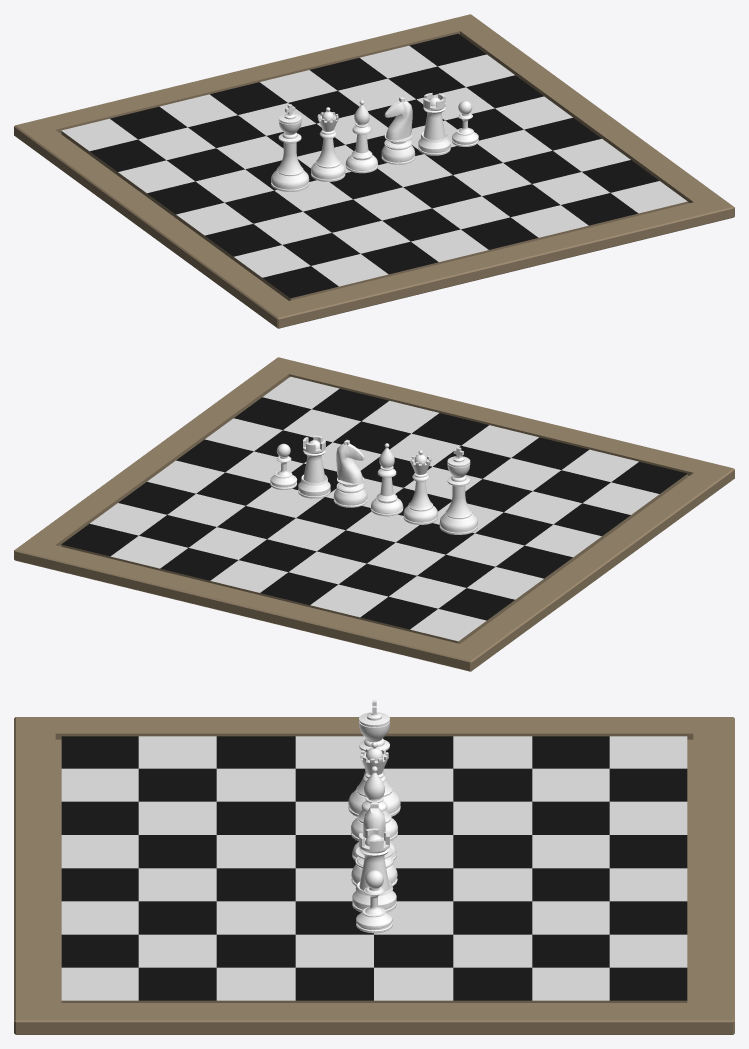
File: BoardGame.fbx
3 renders of one model, top to bottom at view 1: azimuth 30°, elevation 25°; view 2: azimuth 150°, elevation 25°; view 3: azimuth 270°, elevation 25°, orthographic. The views are drawn at different scales.
Parts seen in each view (by area): view 1: Board1, Body (×5), Knight; view 2: Board1, Body (×5), Knight; view 3: Board1, Body (×5), Knight.
Boxes of the visible parts, bbox=[...] form: Board1: bbox=[14, 14, 734, 328]; Body (×5): bbox=[271, 93, 478, 191]; Knight: bbox=[381, 96, 415, 164]; Board1: bbox=[14, 357, 734, 671]; Body (×5): bbox=[270, 435, 477, 534]; Knight: bbox=[333, 439, 367, 507]; Board1: bbox=[14, 717, 734, 1034]; Body (×5): bbox=[348, 712, 400, 933]; Knight: bbox=[351, 801, 397, 886].
Bounding box in the file's own units: 27.53 × 5.31 × 27.53.
